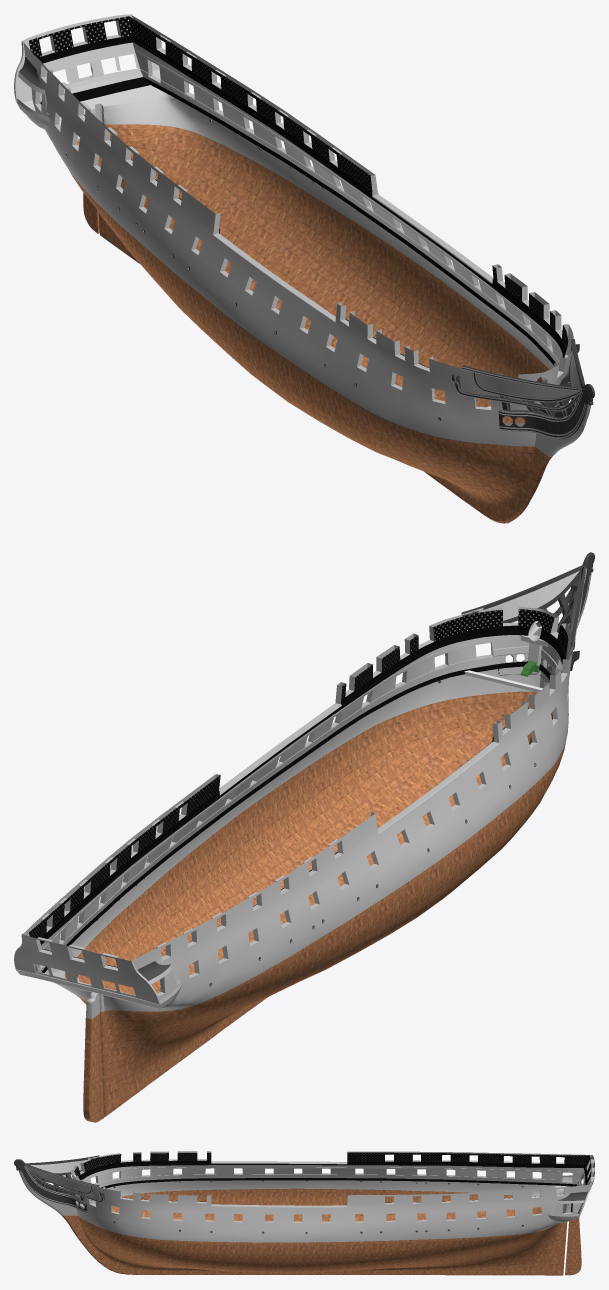
File: hull.fbx
3 renders of one model, top to bottom at view 1: azimuth 30°, elevation 25°; view 2: azimuth 150°, elevation 25°; view 3: azimuth 270°, elevation 25°, orthographic. The views are drawn at different scales.
Visible parts, largest first — view 1: Hull; view 2: Hull; view 3: Hull.
Boxes of the visible parts, x1,y1,x2,y2 form: Hull: (14, 14, 594, 523); Hull: (14, 552, 594, 1122); Hull: (14, 1151, 594, 1275).
Bounding box in the file's own units: 1312 × 1311 × 5961.
